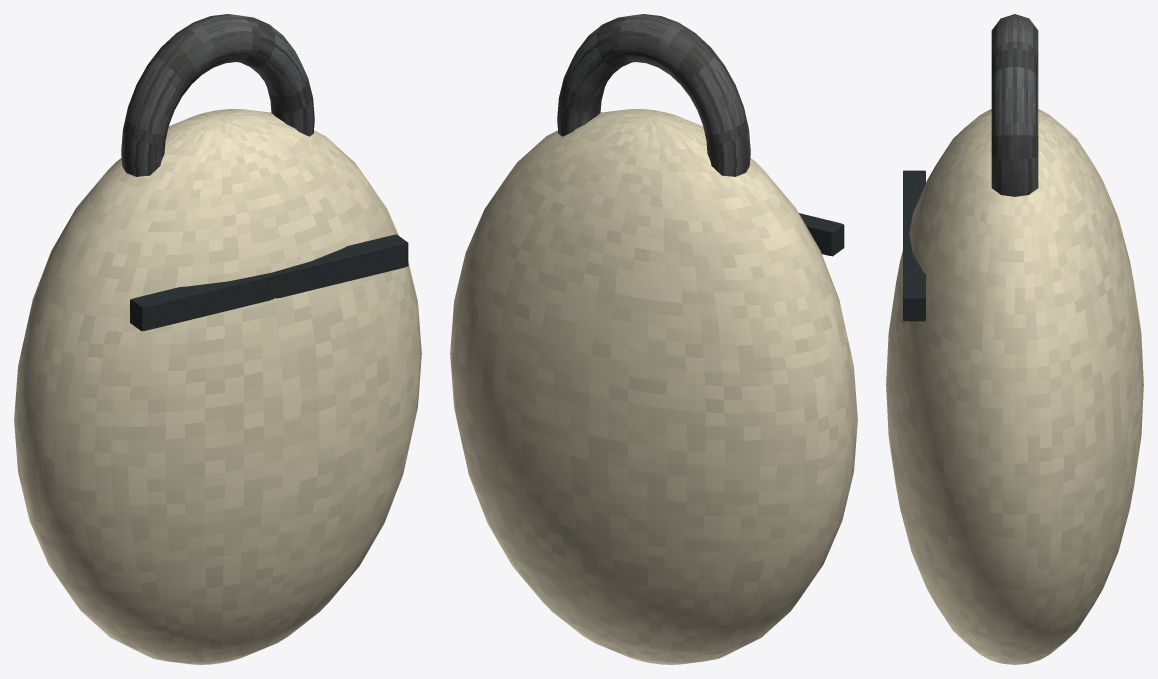
Rendered from food-bag.glb.
The picture shows the model from 3 angles, left to right: view 1: azimuth 30°, elevation 25°; view 2: azimuth 150°, elevation 25°; view 3: azimuth 270°, elevation 25°; orthographic projection.
Parts seen in each view (by area): view 1: soft-body, strap, zip; view 2: soft-body, strap, zip; view 3: soft-body, strap, zip.
Boxes of the visible parts, left/top/right/bottom form: soft-body: left=14, top=109, right=421, bottom=664; strap: left=121, top=14, right=314, bottom=176; zip: left=130, top=234, right=408, bottom=331; soft-body: left=450, top=109, right=857, bottom=664; strap: left=557, top=14, right=750, bottom=176; zip: left=799, top=213, right=844, bottom=256; soft-body: left=886, top=109, right=1143, bottom=664; strap: left=991, top=14, right=1038, bottom=196; zip: left=903, top=170, right=925, bottom=321.
Bounding box in the file's own units: 0.17 × 0.2686 × 0.1.
3 materials, 3 textured.
